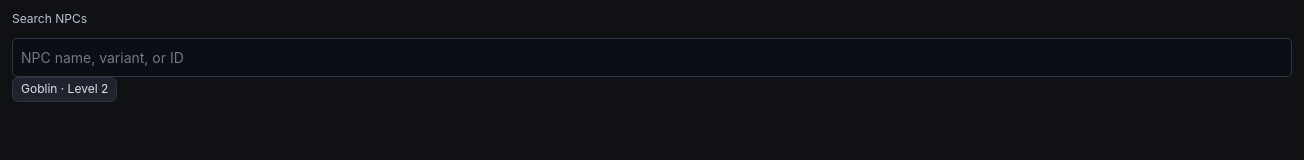
it: reports catalog failures and retries
In the search field labelled "Search NPCs": (652, 58) [12,38,1292,77], type "missing"
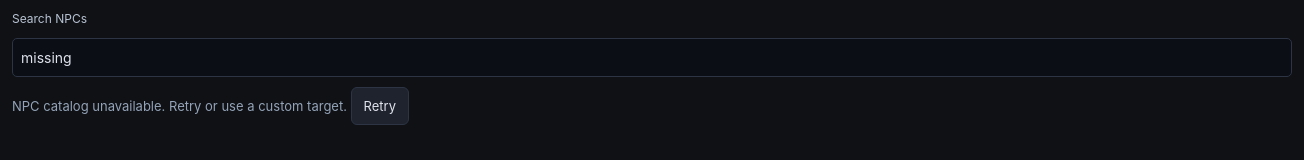
Check: the message "NPC catalog unavailable. Retry or use a custom target. Retry" is shown, box [12,87,409,125]
Click the button "Retry": (380, 106) [351,87,409,125]
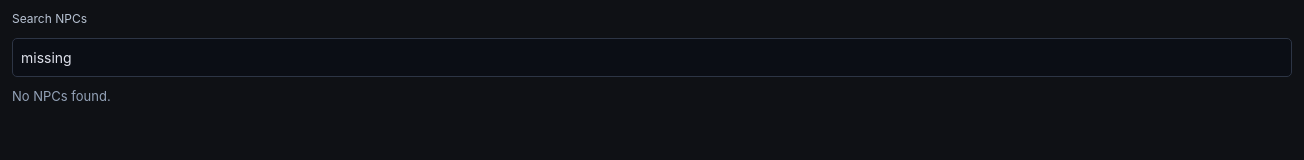
Check: the text "No NPCs found." is shown, box [12,88,111,104]
